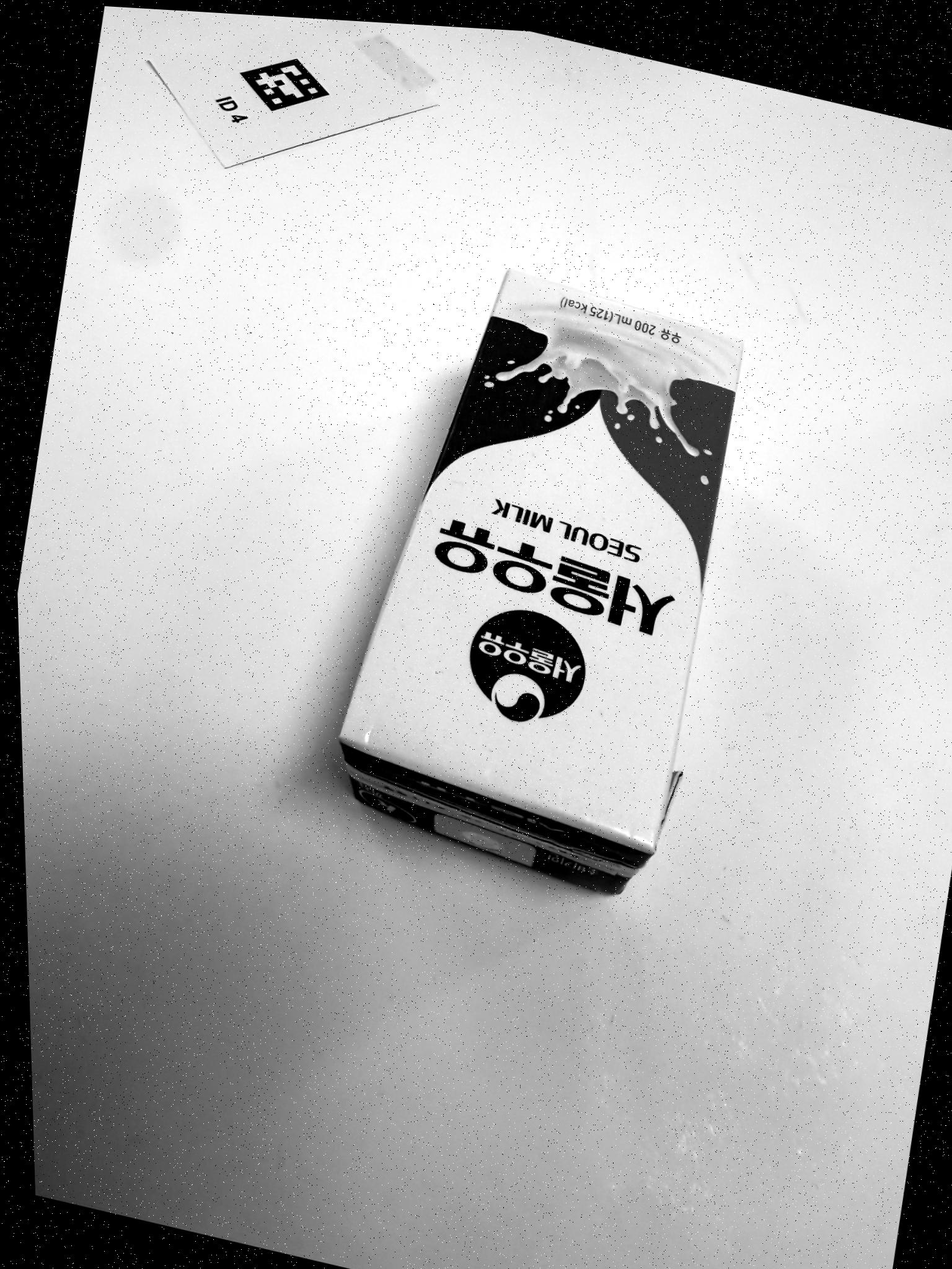milk_green: (339, 261, 746, 894)
